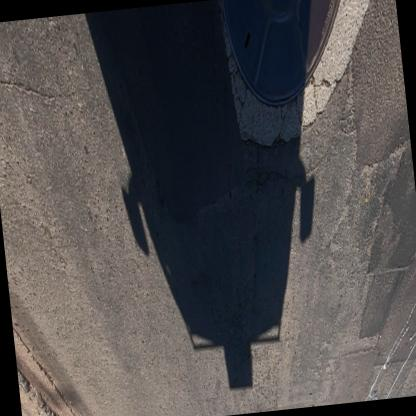manholes: (215, 0, 361, 130)
